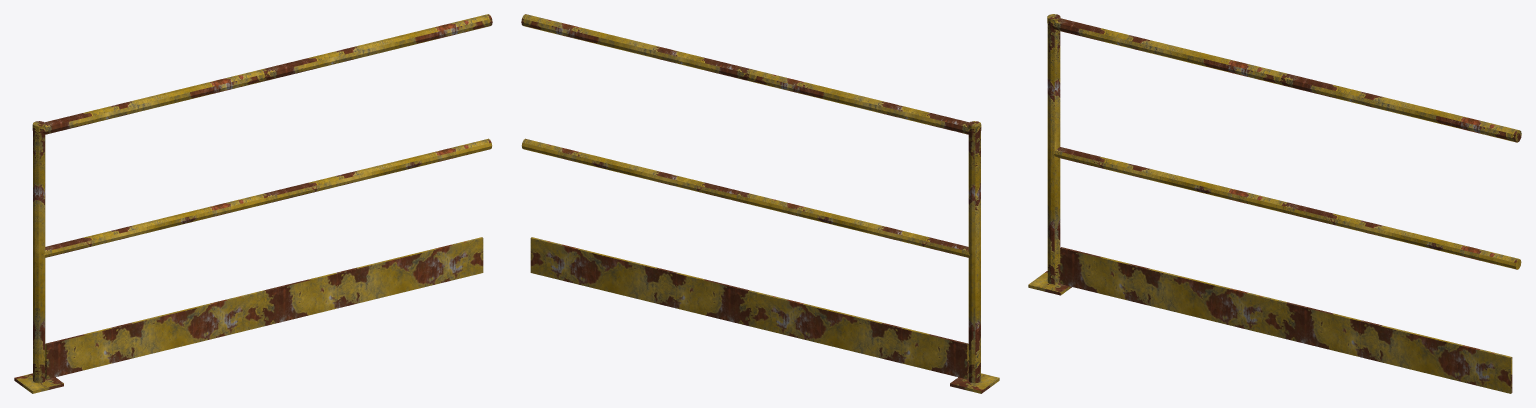
The model's file is korkuluk_2m.gltf.
The picture shows the model from 3 angles, left to right: view 1: azimuth 30°, elevation 25°; view 2: azimuth 150°, elevation 25°; view 3: azimuth 330°, elevation 25°; orthographic projection. The views are drawn at different scales.
Parts seen in each view (by area): view 1: korkuluk_2m; view 2: korkuluk_2m; view 3: korkuluk_2m.
Boxes of the visible parts, box(x1,y1,x2,y2) form: korkuluk_2m: box(14, 14, 492, 393); korkuluk_2m: box(521, 14, 999, 393); korkuluk_2m: box(1028, 14, 1521, 393).
Size of what is drawn, in the model's own units: 2.07 by 1.1 by 0.14.
1 material, 1 textured.
